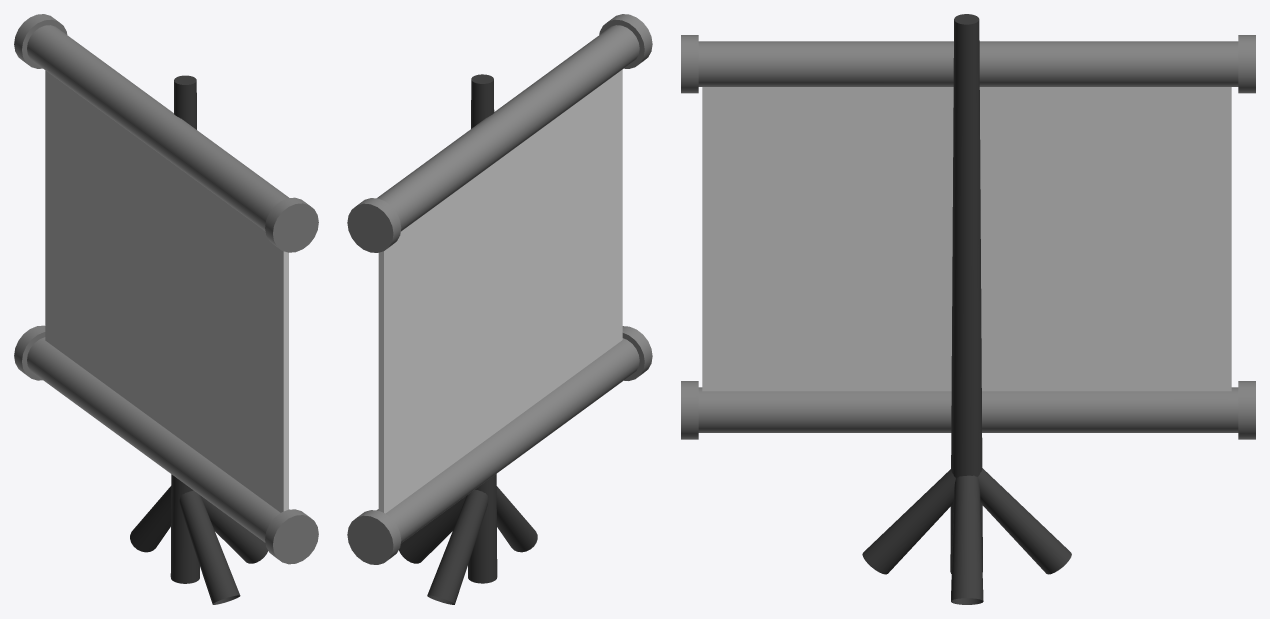
The model's file is Scene (Screen).fbx.
The picture shows the model from 3 angles, left to right: view 1: azimuth 30°, elevation 25°; view 2: azimuth 150°, elevation 25°; view 3: azimuth 270°, elevation 25°; orthographic projection. The views are drawn at different scales.
Visible parts, largest first — view 1: Scene (Screen); view 2: Scene (Screen); view 3: Scene (Screen).
Part boxes in pixels (box(x1,y1,x2,y2)): Scene (Screen): box(14, 14, 318, 604); Scene (Screen): box(347, 14, 652, 604); Scene (Screen): box(681, 14, 1255, 604).
Bounding box in the file's own units: 191 × 740 × 697.
